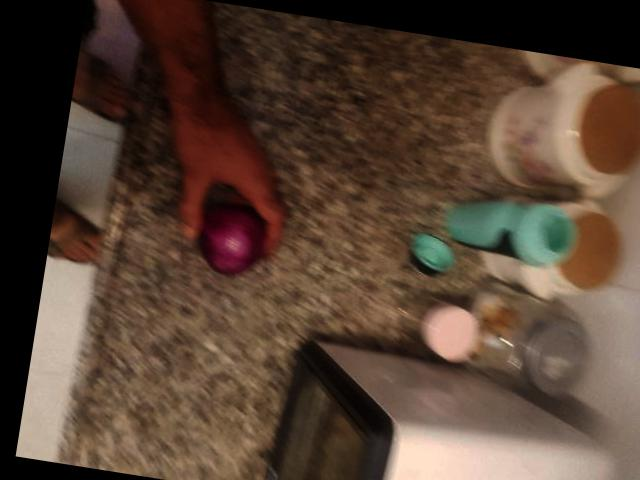onion: (164, 174, 277, 283)
